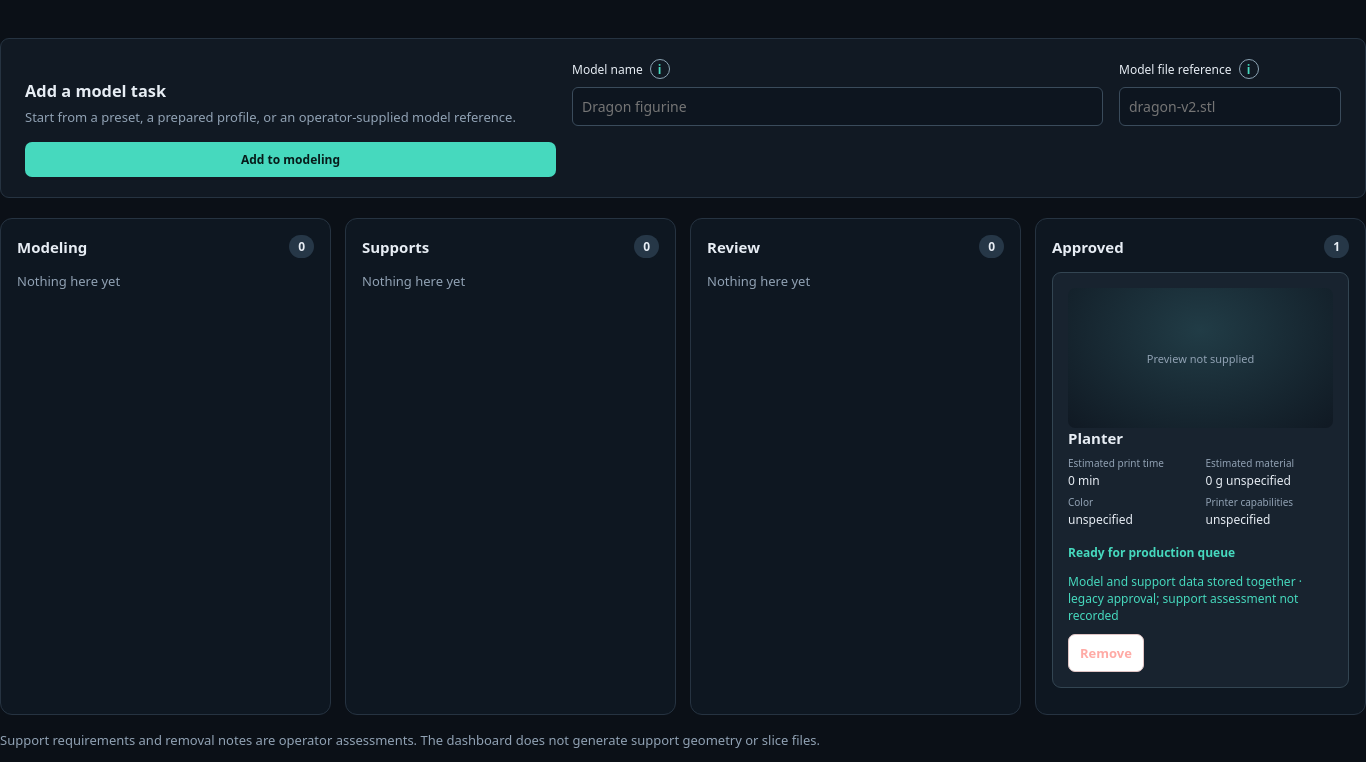
checks whether an approved model is used by an order before asking to remove it
(page scrolled)
What coordinates should you click on to do the following:
click the button with aria-label "Remove Planter"
I would click on:
 (1106, 653)
Its box is [1068, 634, 1144, 672].
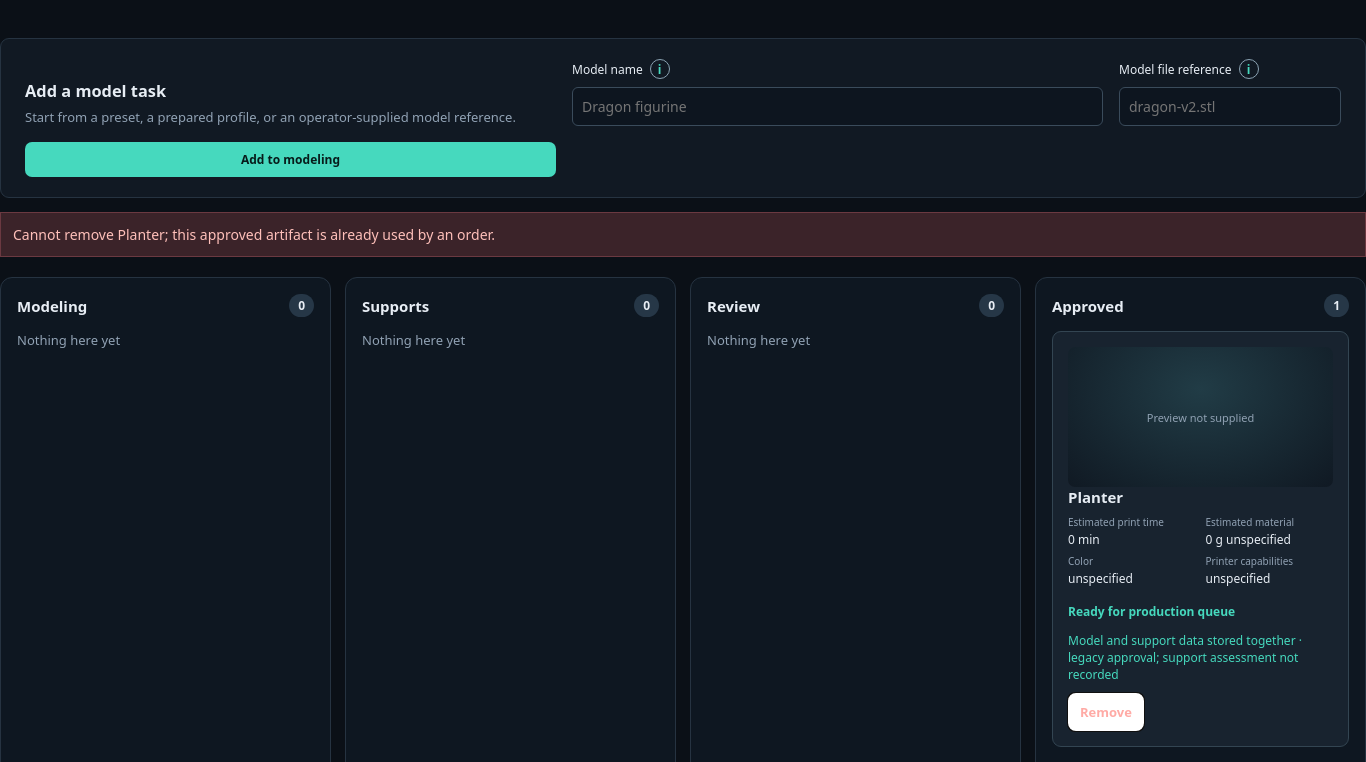
expect the heading "Planter" is shown: met, box [1068, 487, 1123, 507]
expect the message shows "approved artifact is already used by an order": met, box [13, 225, 495, 244]
